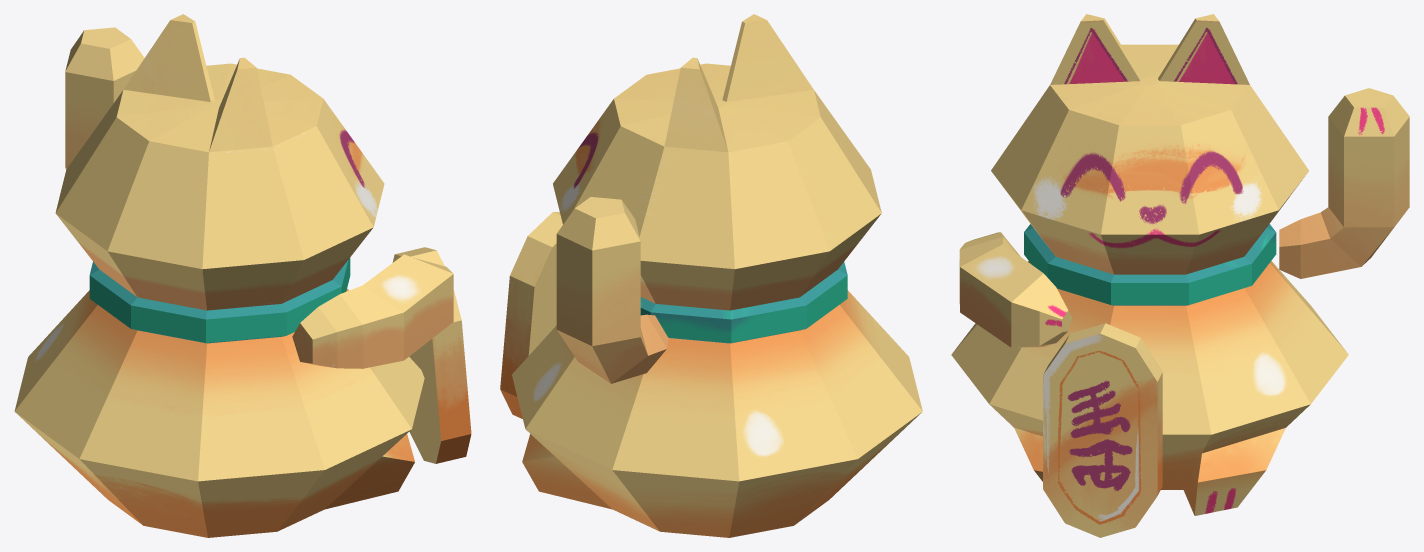
Rendered from lucky_cat.glb.
3 views of the same model, side by side, from view 1: azimuth 30°, elevation 25°; view 2: azimuth 150°, elevation 25°; view 3: azimuth 270°, elevation 25° (orthographic). The views are drawn at different scales.
Visible parts, largest first — view 1: cat backup; view 2: cat backup; view 3: cat backup.
Part boxes in pixels (bbox=[...]): cat backup: bbox=[14, 14, 471, 537]; cat backup: bbox=[500, 14, 922, 537]; cat backup: bbox=[951, 14, 1409, 537].
Size of the model in its own units: 1.9 by 2.11 by 2.06.
Materials: 1 (1 with a texture image).
